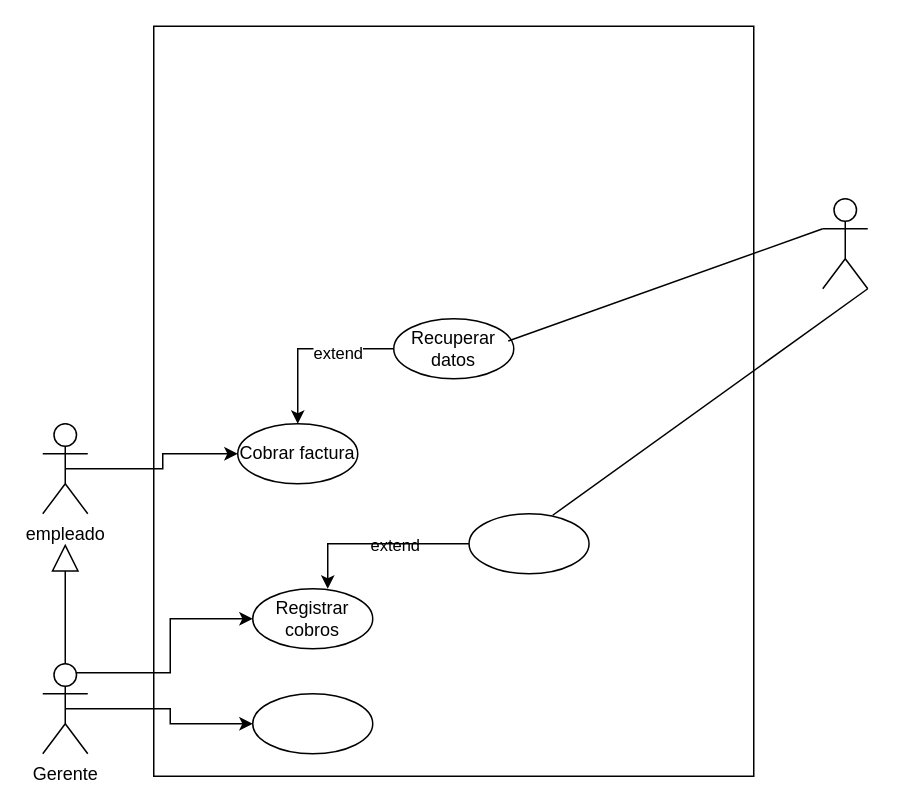
Some shapes in this 900 by 812 pixel diagram are drawn without their labels. The shapes that lost their labels are listed below. From the top down, each one's centre as x and y in pixels, then its label:
(x=844, y=243): Central
(x=528, y=543): Enviar pagos
(x=312, y=723): Ver estadisticas
